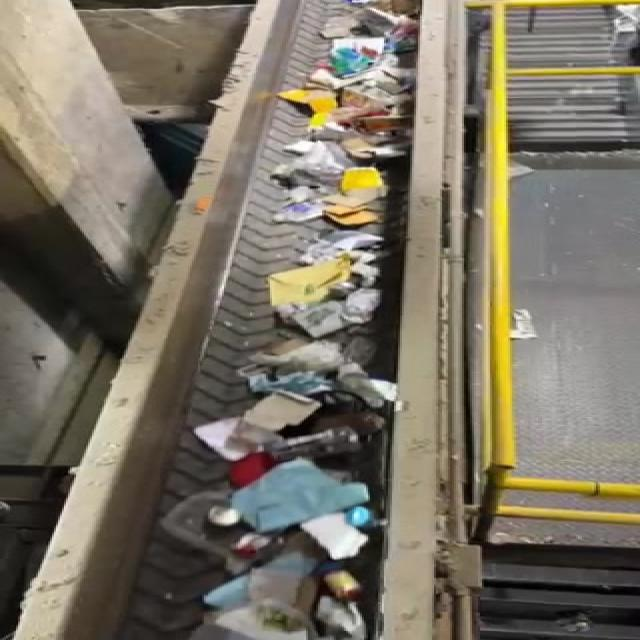metal: (308, 563, 374, 605)
paper: (217, 470, 391, 519), (245, 390, 319, 434)
